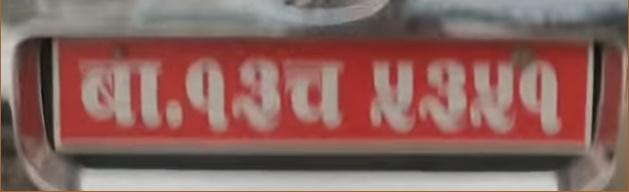1: (512, 49, 570, 137), (174, 56, 231, 134)
3: (418, 53, 473, 139), (229, 54, 285, 136)
5: (362, 53, 418, 140), (469, 49, 511, 132)
ba: (70, 54, 168, 125)
cha: (282, 54, 349, 132)
